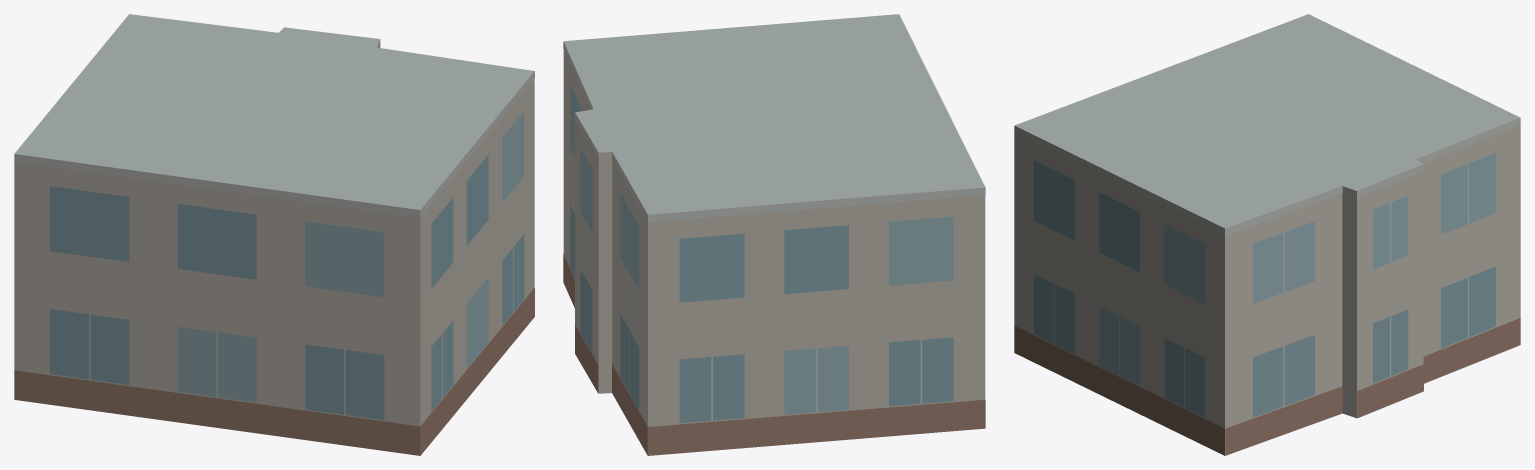
The model's file is survey-upis-32639409.glb.
3 views of the same model, side by side, from view 1: azimuth 30°, elevation 25°; view 2: azimuth 150°, elevation 25°; view 3: azimuth 270°, elevation 25° (orthographic). The views are drawn at different scales.
Parts seen in each view (by area): view 1: survey-upis-32639409.tmp; view 2: survey-upis-32639409.tmp; view 3: survey-upis-32639409.tmp.
Boxes of the visible parts, <box> form: survey-upis-32639409.tmp: <box>14,14,534,455</box>; survey-upis-32639409.tmp: <box>563,14,985,455</box>; survey-upis-32639409.tmp: <box>1014,14,1520,455</box>.
Size of the model in its own units: 15.59 by 7.7 by 15.55.
